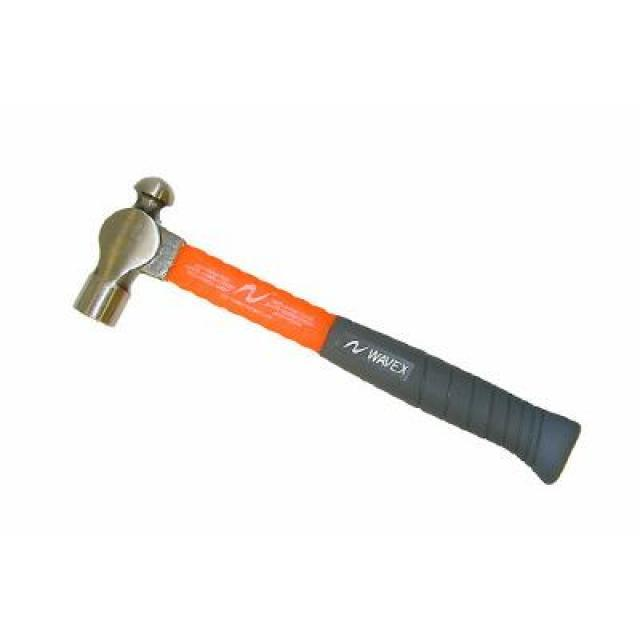hammer: (70, 165, 590, 530)
